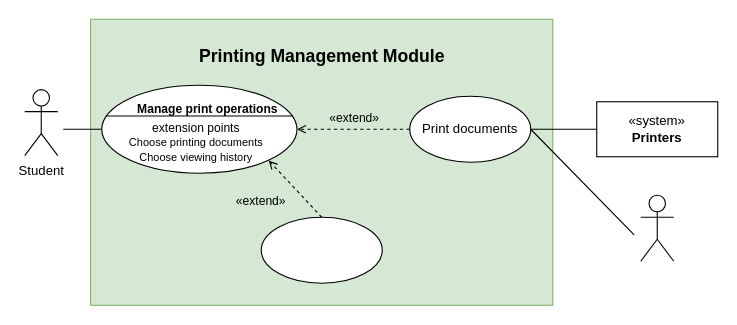
The diagram is 737 pixels wide and 325 high, and some of its shapes have lost their labels. The centre of each missing label's shape, as x and y in pixels:
"SPSO" goes at point 657,227.
"View printing history" goes at point 321,249.
